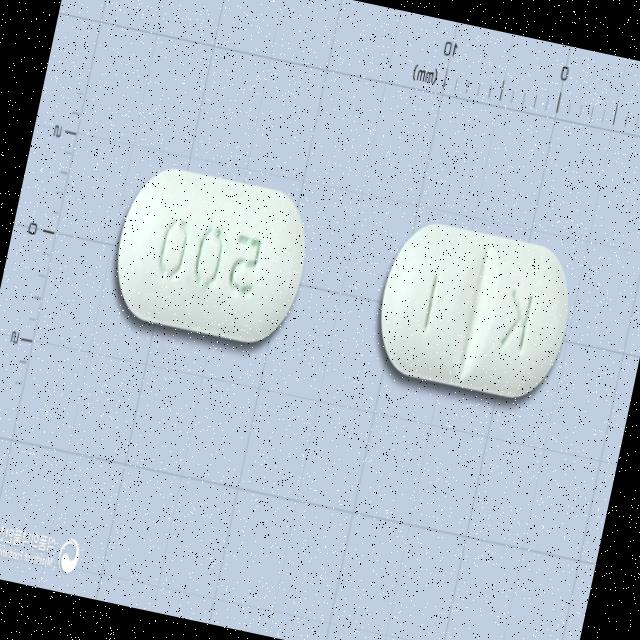Amocla: (97, 151, 322, 359), (360, 205, 586, 412)
